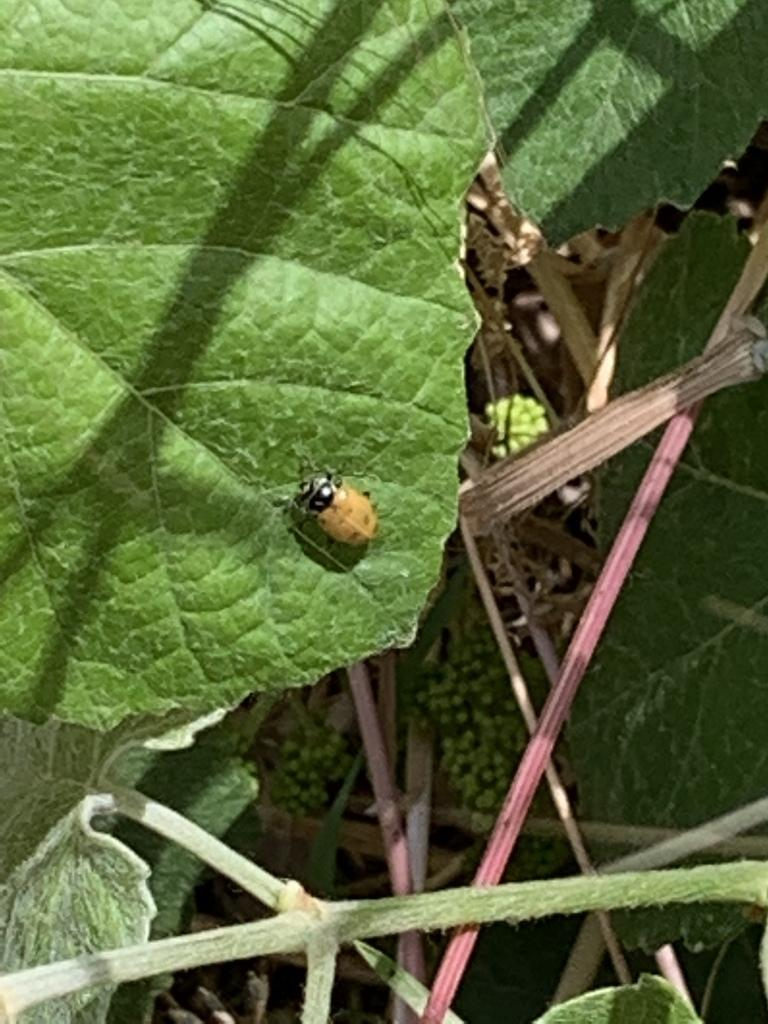ladybug: (272, 459, 378, 549)
